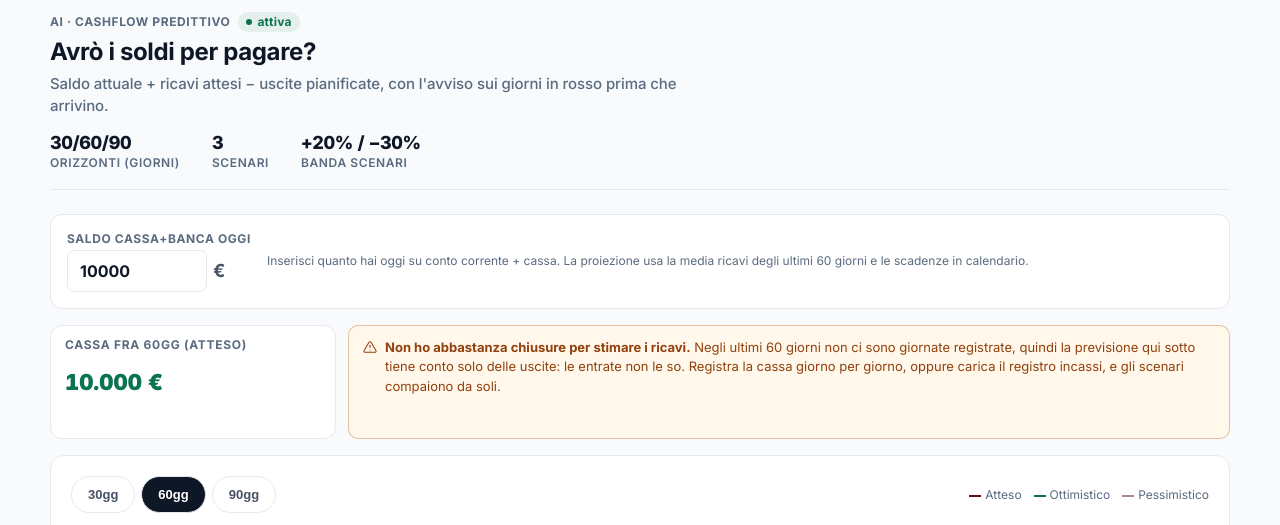
Test case: si legge anche senza guardare: etichette e didascalie › cambiare orizzonte cambia davvero il numero e la didascalia
This screenshot has width=1280, height=525.
Click the button "90gg" at (244, 494), box [212, 476, 276, 513]
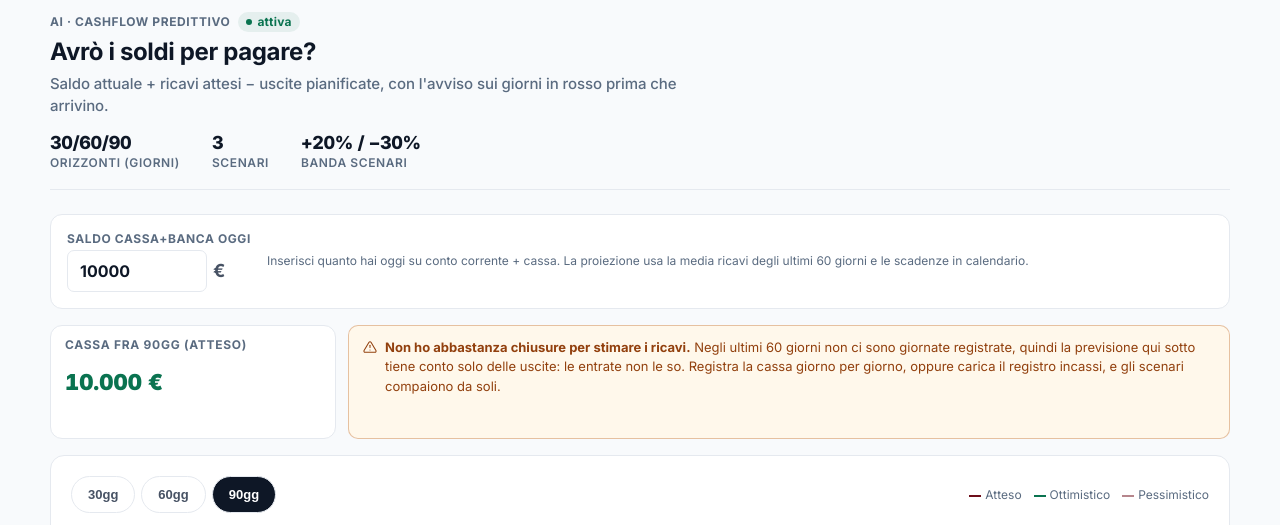
Result: the text "Cassa fra 90gg" is shown at [65, 337, 247, 352]
